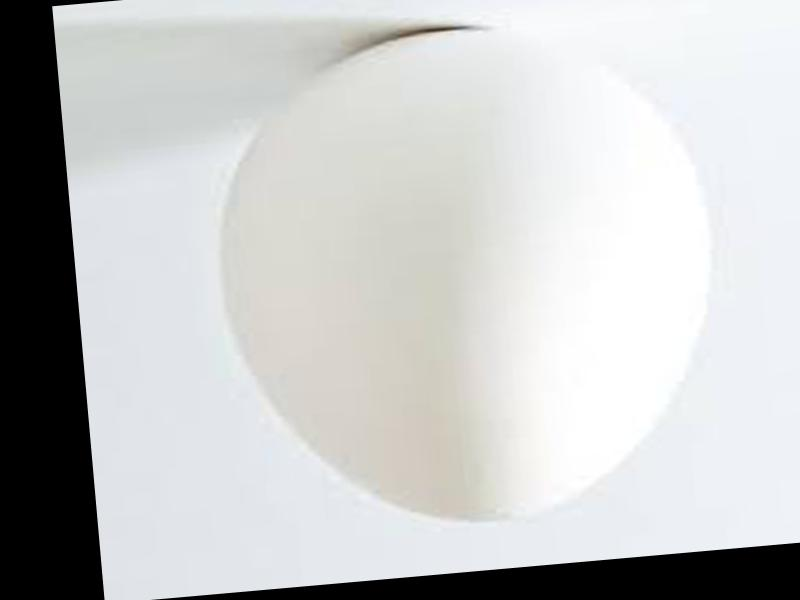Eggs: (206, 8, 731, 544)
